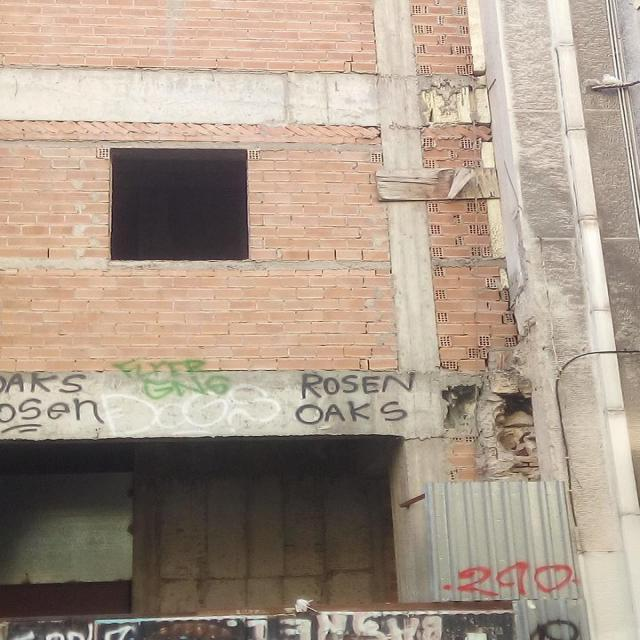nonspitting: (100, 382, 282, 436), (0, 372, 106, 436), (295, 371, 417, 422), (442, 560, 580, 598), (113, 357, 231, 400), (527, 619, 580, 640)
